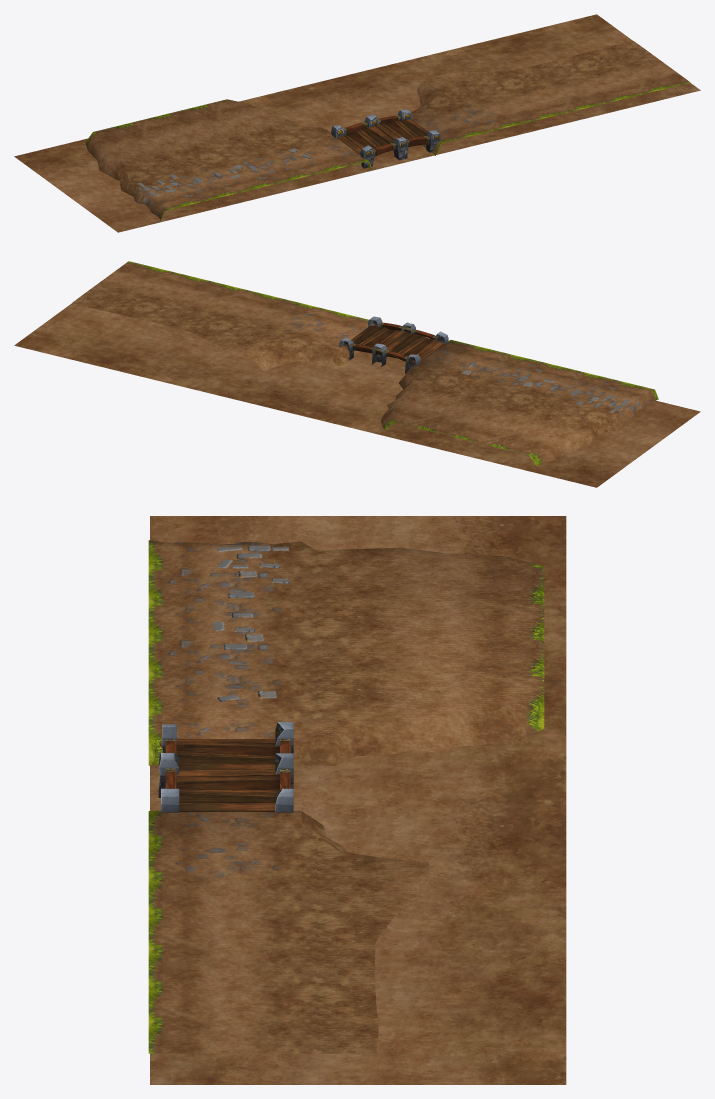
The model's file is Ground.FBX.
The picture shows the model from 3 angles, top to bottom: view 1: azimuth 30°, elevation 25°; view 2: azimuth 150°, elevation 25°; view 3: azimuth 270°, elevation 25°; orthographic projection. The views are drawn at different scales.
Visible parts, largest first — view 1: ground1, ground_02, 02_bridge, ground_0; view 2: ground1, ground_02, 02_bridge, ground_0; view 3: ground1, ground_02, 02_bridge, ground_0.
Boxes of the visible parts, x1,y1,x2,y2 form: ground1: (85, 41, 690, 220); ground_02: (14, 14, 700, 232); 02_bridge: (331, 109, 440, 168); ground_0: (137, 148, 312, 196); ground1: (72, 261, 658, 465); ground_02: (14, 303, 700, 487); 02_bridge: (339, 316, 448, 373); ground_0: (461, 362, 629, 413); ground1: (148, 540, 544, 1053); ground_02: (150, 516, 566, 1084); 02_bridge: (158, 722, 293, 812); ground_0: (213, 545, 289, 701).
Size of the model in its own units: 3305 by 120 by 1026.
